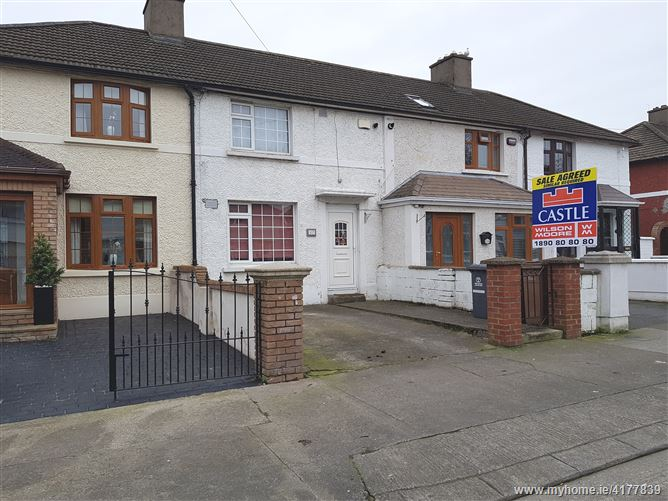property sign: (524, 163, 603, 254)
